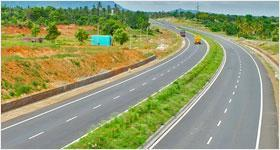car: (193, 34, 202, 45), (179, 29, 186, 37)
house: (90, 34, 115, 47)
